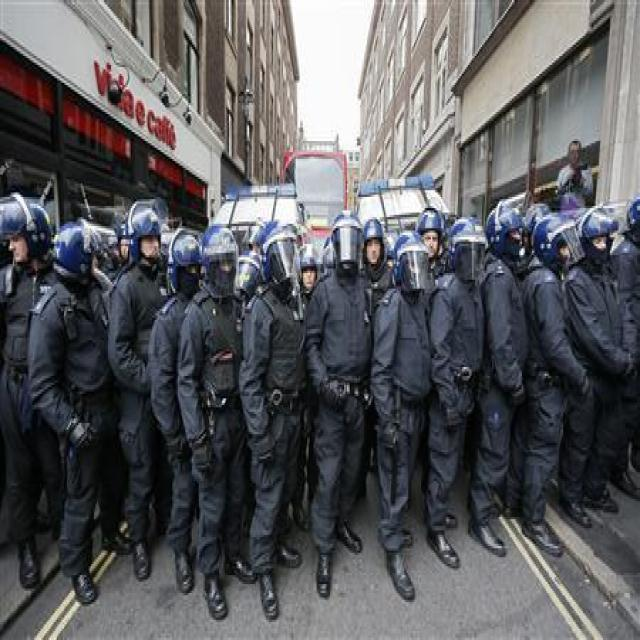police: (36, 213, 124, 604), (116, 190, 191, 626), (304, 203, 379, 616), (418, 204, 496, 586), (464, 193, 538, 576), (184, 214, 252, 620), (517, 198, 593, 555), (364, 241, 435, 614), (253, 203, 311, 640), (0, 192, 64, 587), (574, 185, 638, 528)
